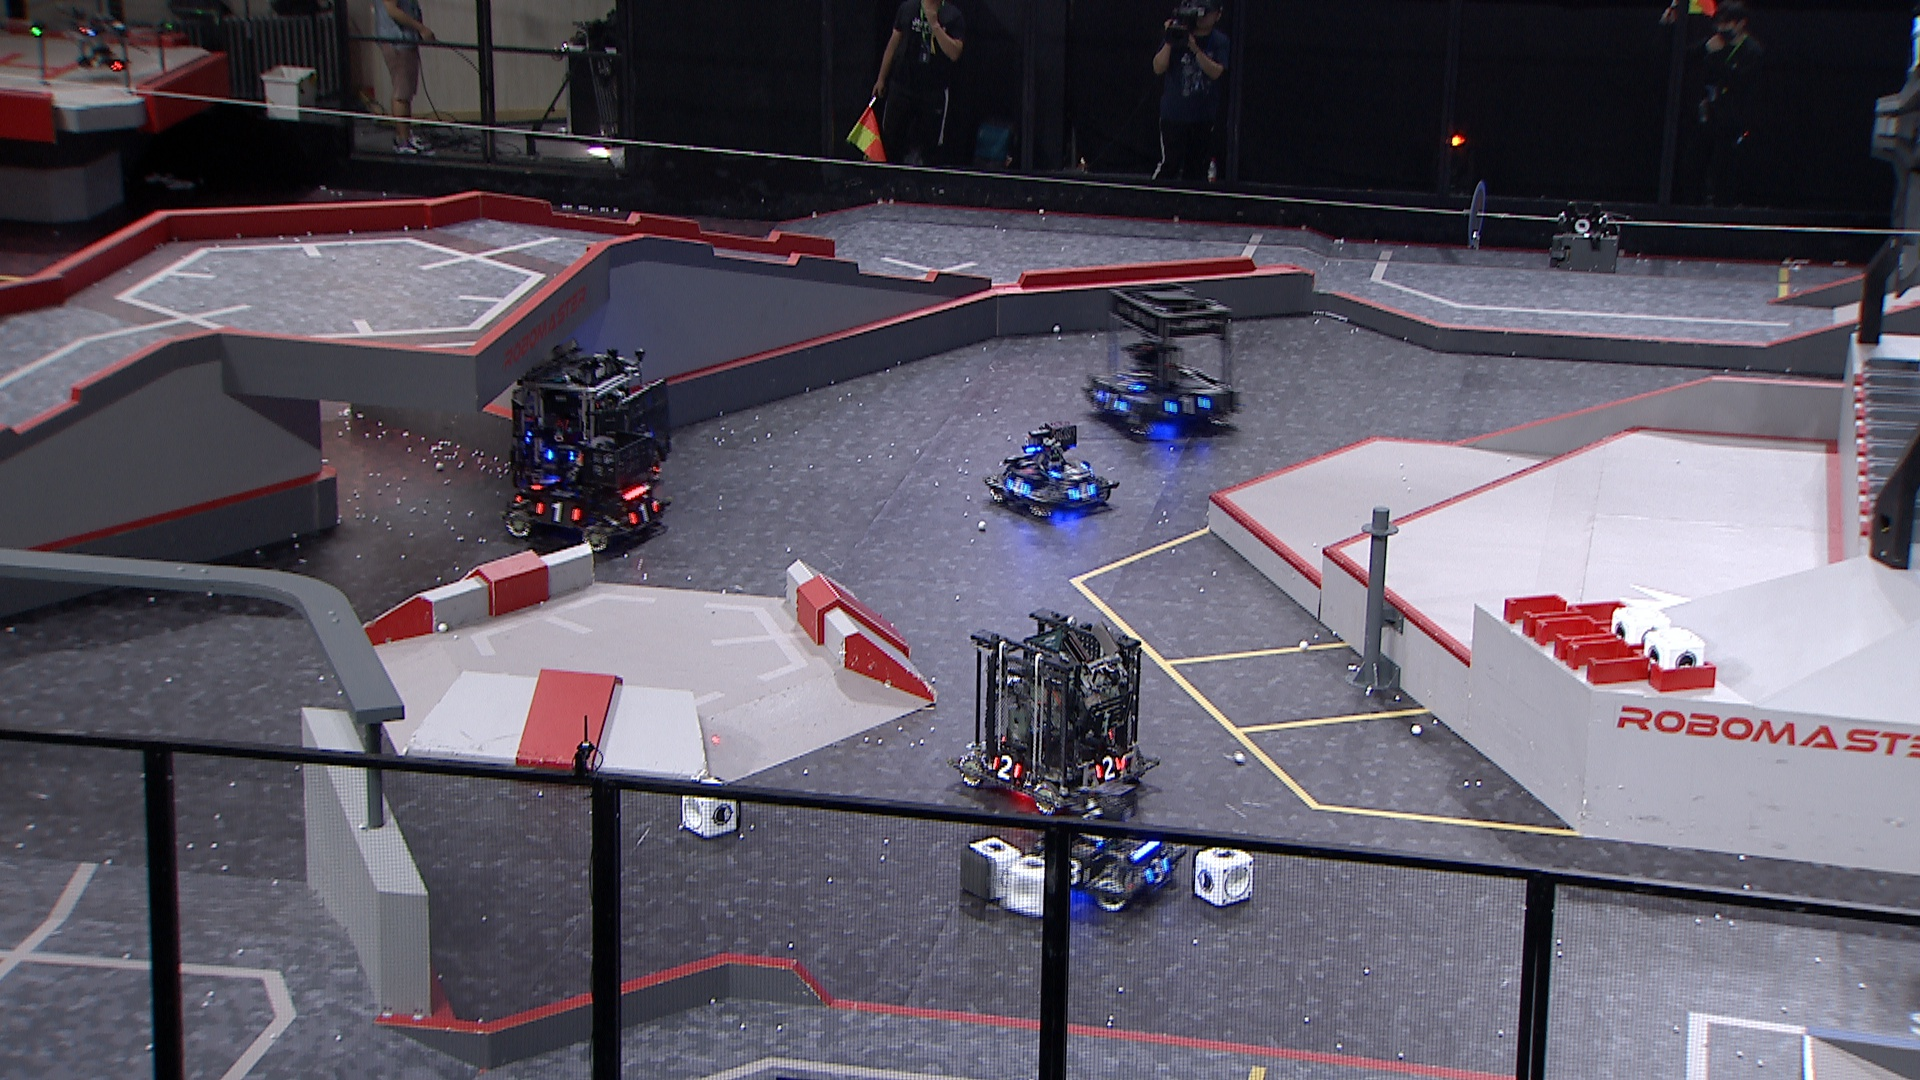armor: (537, 498, 583, 526), (1166, 392, 1211, 419), (989, 756, 1025, 783), (1139, 858, 1172, 887), (1112, 373, 1147, 398), (1093, 754, 1124, 783), (626, 500, 659, 526), (1096, 390, 1126, 414), (1068, 481, 1098, 505), (527, 473, 560, 495), (1048, 462, 1092, 477), (1005, 477, 1035, 500), (1068, 858, 1093, 885)
car: (949, 607, 1162, 816), (1081, 282, 1245, 439), (508, 344, 671, 498), (1027, 782, 1185, 918), (501, 433, 671, 553), (982, 423, 1121, 524)
